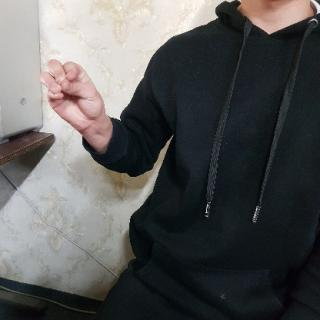HA: (41, 54, 109, 136)
